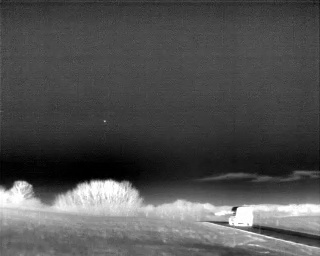BIRD: (102, 118, 108, 125)
